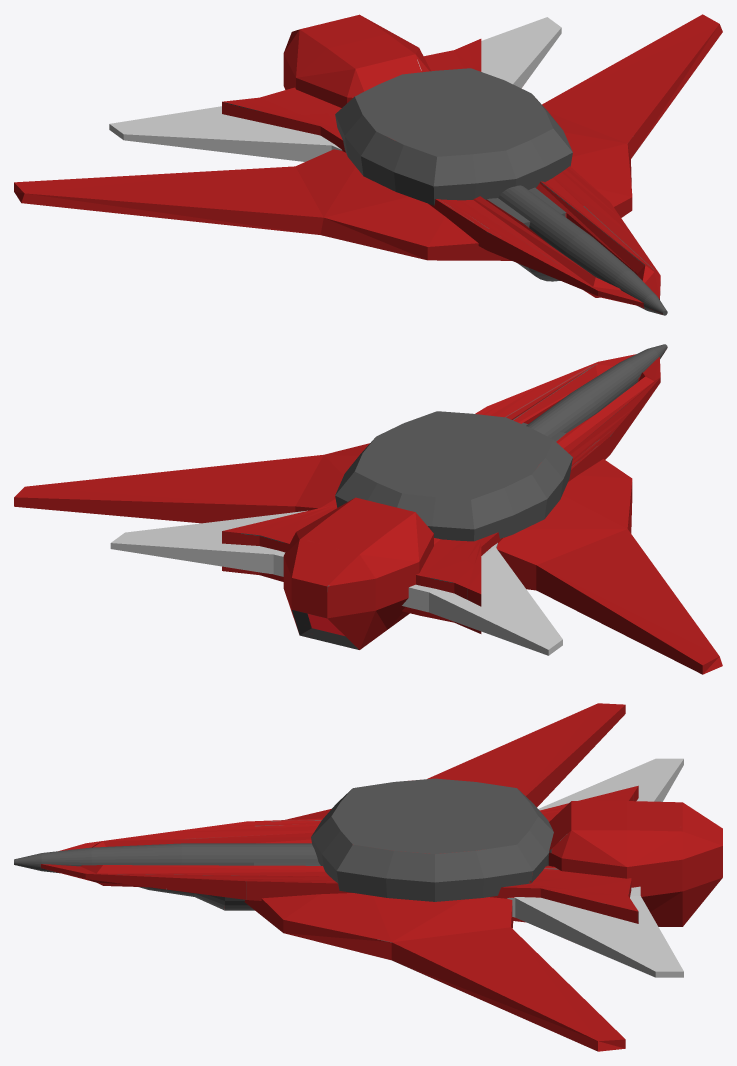
File: playerBody.obj
3 views of the same model, one above another, from view 1: azimuth 30°, elevation 25°; view 2: azimuth 150°, elevation 25°; view 3: azimuth 270°, elevation 25° (orthographic).
Parts seen in each view (by area): view 1: 機体; view 2: 機体; view 3: 機体.
Part boxes in pixels (x1,y1,x2,y2): 機体: (14,14,722,315); 機体: (14,344,722,674); 機体: (14,703,722,1051).
Size of the model in its own units: 5.72 by 0.7567 by 5.02.
6 materials, 6 textured.
